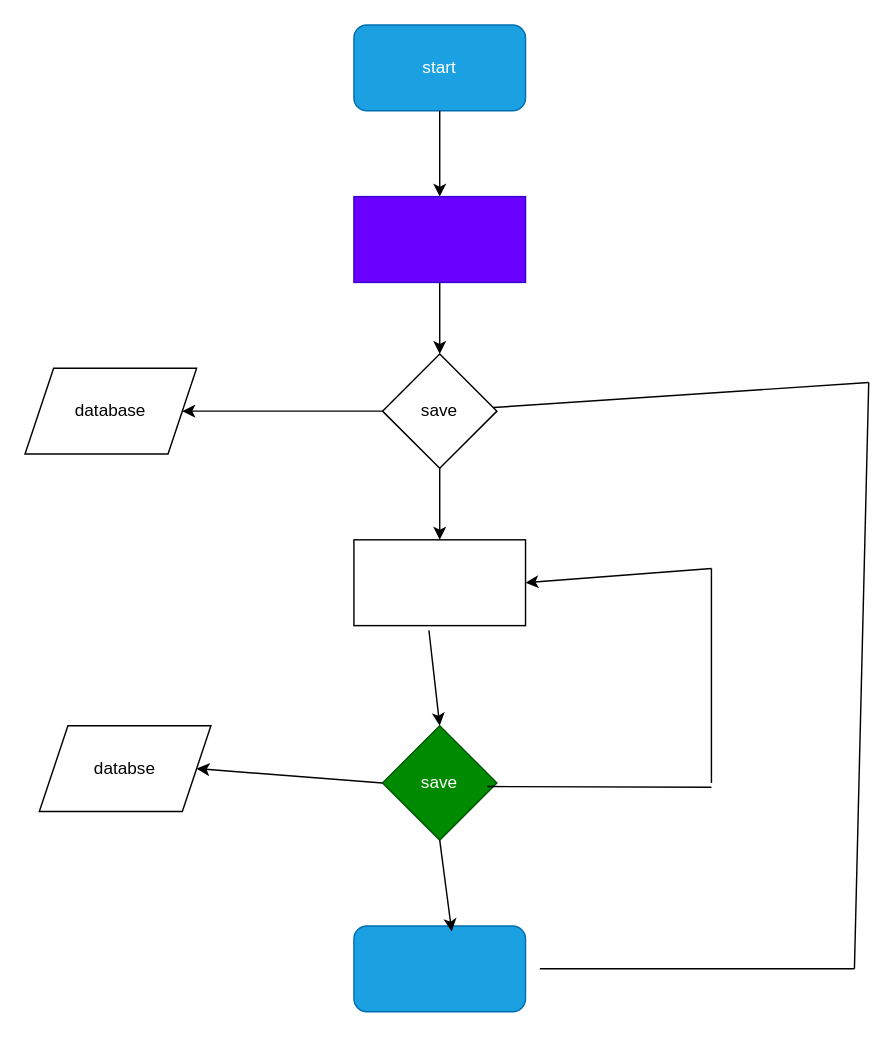
The diagram is 895 pixels wide and 1037 high, and some of its shapes have lost their labels. The shapes that lost their labels are listed below. From the top down, each one's centre as x and y in pixels, then its label:
At pixel 439 238: "create list".
At pixel 439 582: "create task".
At pixel 439 968: "End".
